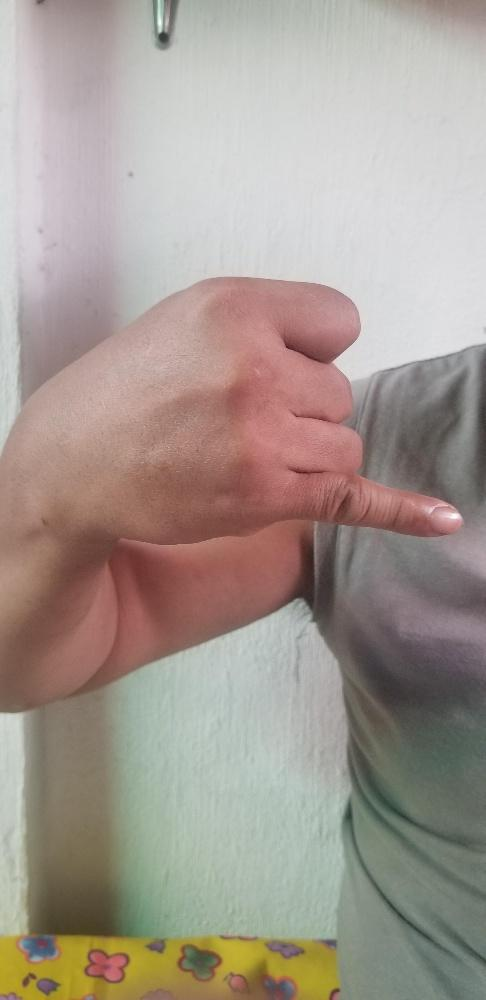j: (82, 274, 465, 539)
